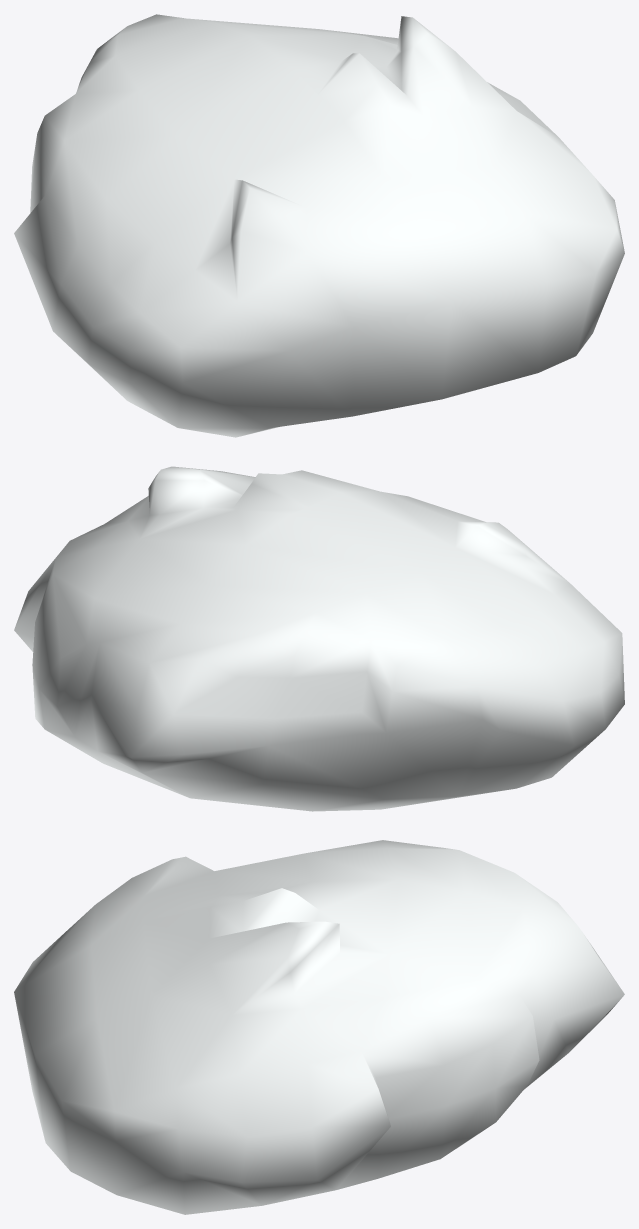
File: Prop_SnowmanBeard.glb
3 renders of one model, top to bottom at view 1: azimuth 30°, elevation 25°; view 2: azimuth 150°, elevation 25°; view 3: azimuth 270°, elevation 25°, orthographic. The views are drawn at different scales.
Visible parts, largest first — view 1: Prop_SnowmanBeard; view 2: Prop_SnowmanBeard; view 3: Prop_SnowmanBeard.
Part boxes in pixels (bbox=[...]): Prop_SnowmanBeard: bbox=[14, 14, 624, 437]; Prop_SnowmanBeard: bbox=[14, 466, 624, 811]; Prop_SnowmanBeard: bbox=[14, 840, 624, 1214].
Size of the model in its own units: 0.375 by 0.1952 by 0.395.
1 material, 1 textured.
